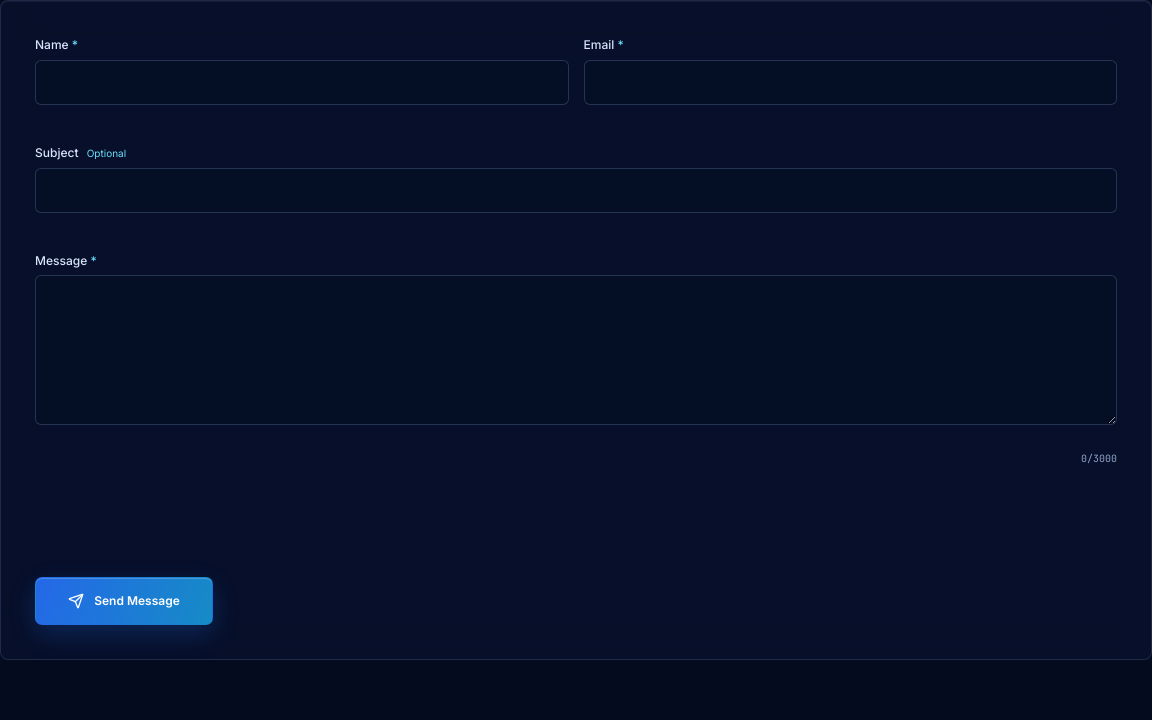
Scenario: contact form › shows field validation errors and keeps the honeypot out of tab order
The image size is (1152, 720).
Click the button "Send Message". click: (124, 601)
box: [35,577,213,625]
(page scrolled)
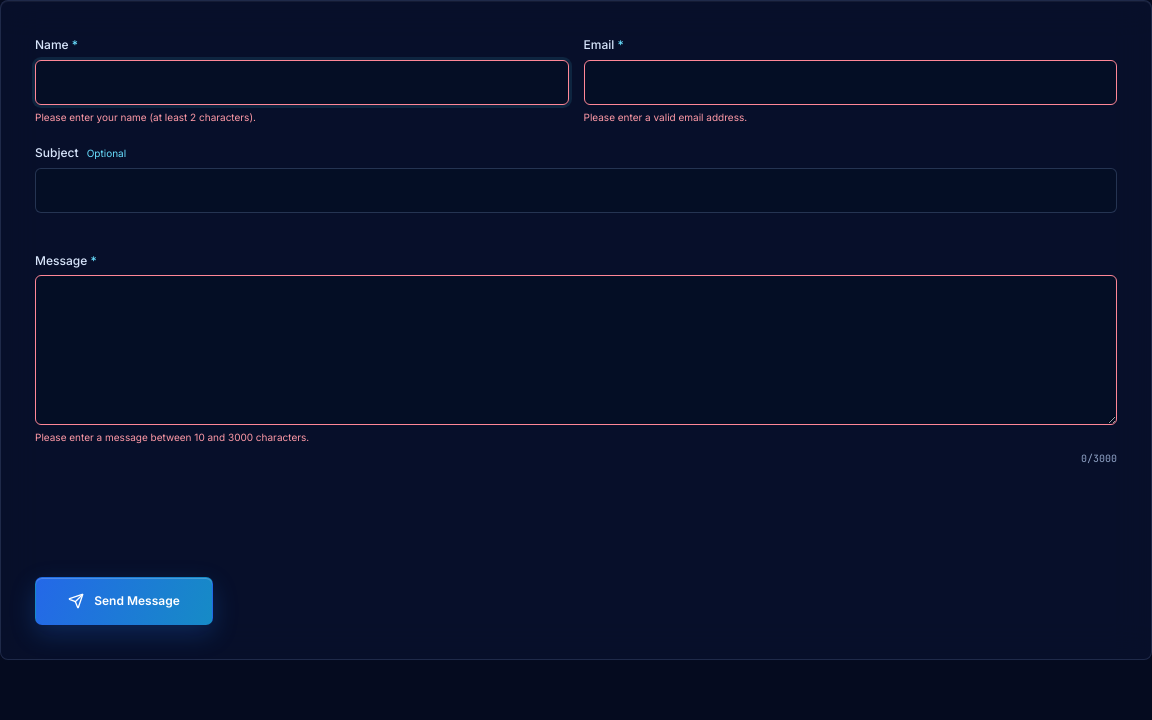
Check: the text "Please enter your name (at least 2 characters)." is shown, box [35,111,256,123]
Check: the text "Please enter a valid email address." is shown, box [584,111,747,123]
